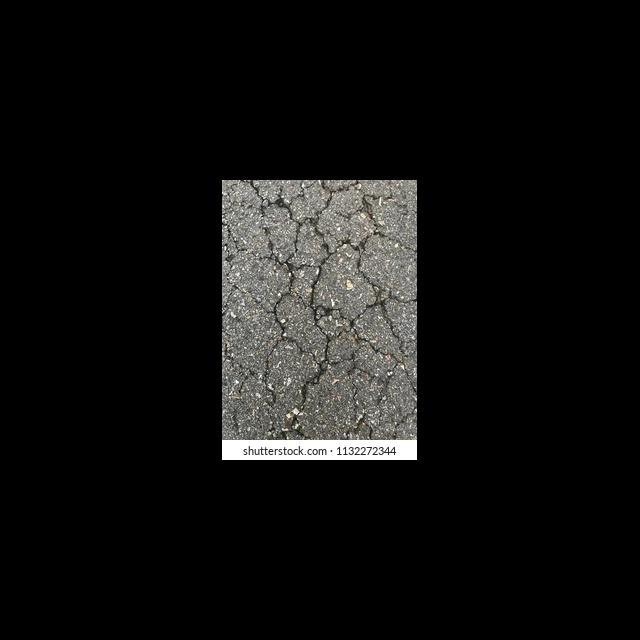retak_kulit_buaya: (222, 180, 418, 434)
